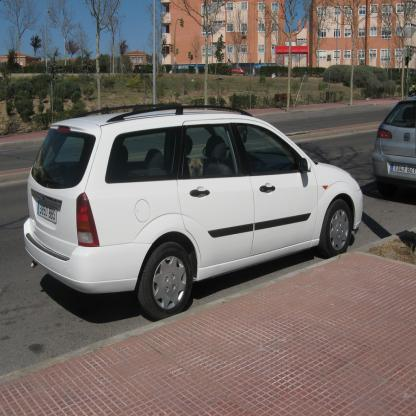Car: (23, 104, 365, 317), (371, 89, 415, 190)
